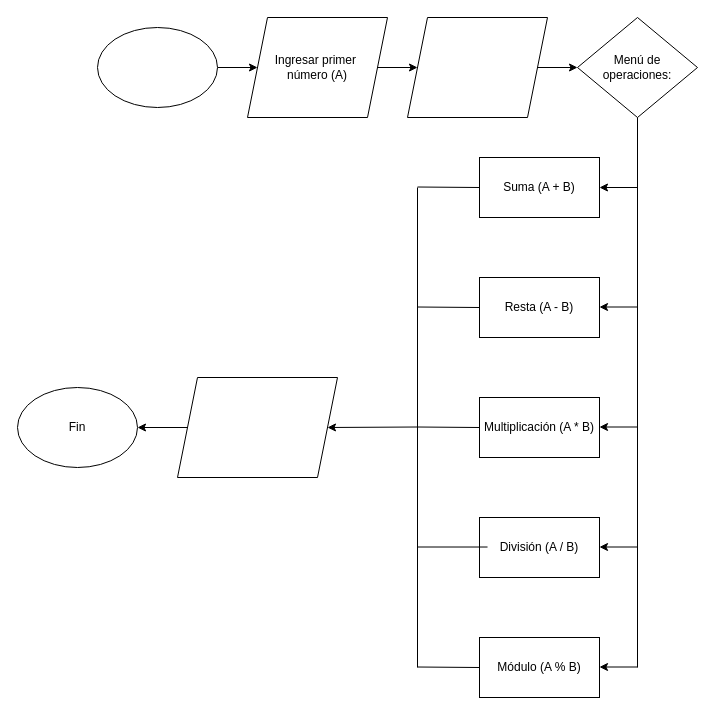
The diagram is 715 pixels wide and 715 high, and some of its shapes have lost their labels. Here are the shapes that lost their labels. From the top down, the centre of each, then its label:
At pixel 157 67: "Inicio".
At pixel 477 67: "Ingresar segundo número (B)".
At pixel 257 427: "Mostrar resultado de la operación seleccionada".
